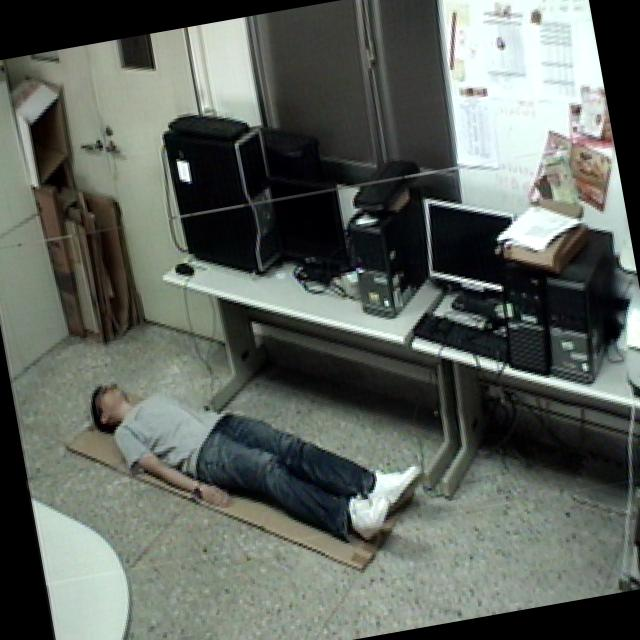lie: (70, 317, 440, 600)
